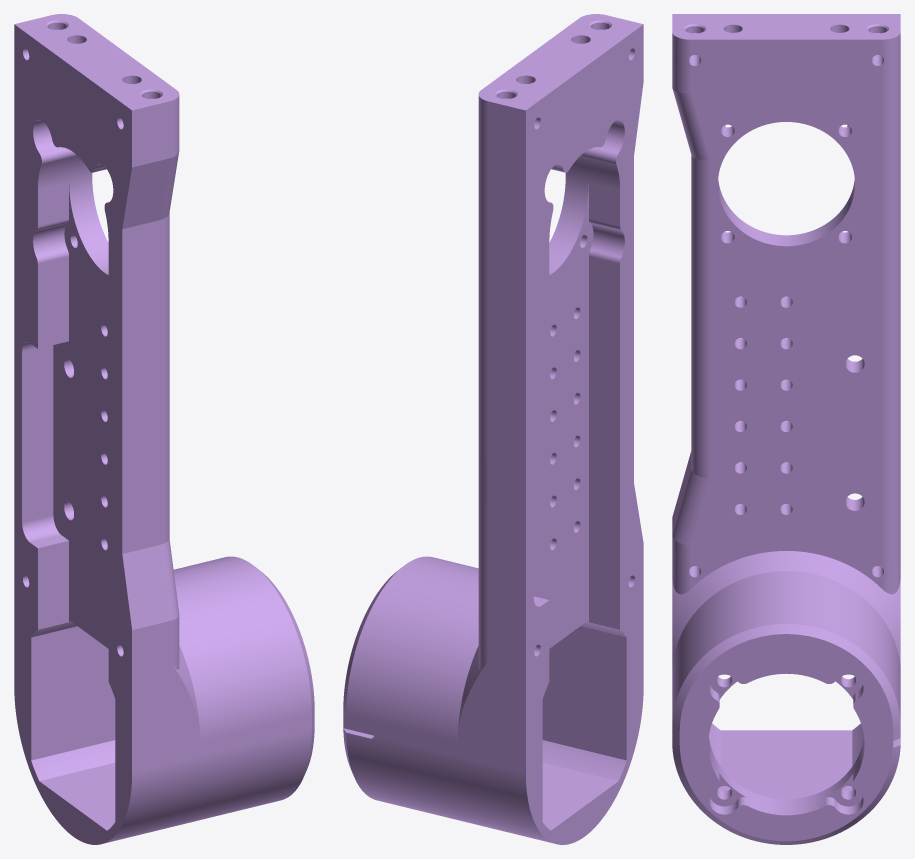
File: Main_CaseJoint_5_2.dae
3 renders of one model, left to right at view 1: azimuth 30°, elevation 25°; view 2: azimuth 150°, elevation 25°; view 3: azimuth 270°, elevation 25°, orthographic. The views are drawn at different scales.
Parts seen in each view (by area): view 1: Main_CaseJoint_5_2; view 2: Main_CaseJoint_5_2; view 3: Main_CaseJoint_5_2.
Part boxes in pixels (x1,y1,x2,y2): Main_CaseJoint_5_2: [14, 14, 314, 844]; Main_CaseJoint_5_2: [343, 14, 643, 844]; Main_CaseJoint_5_2: [672, 14, 900, 844].
Size of the model in its own units: 0.0274 by 0.03 by 0.108.
